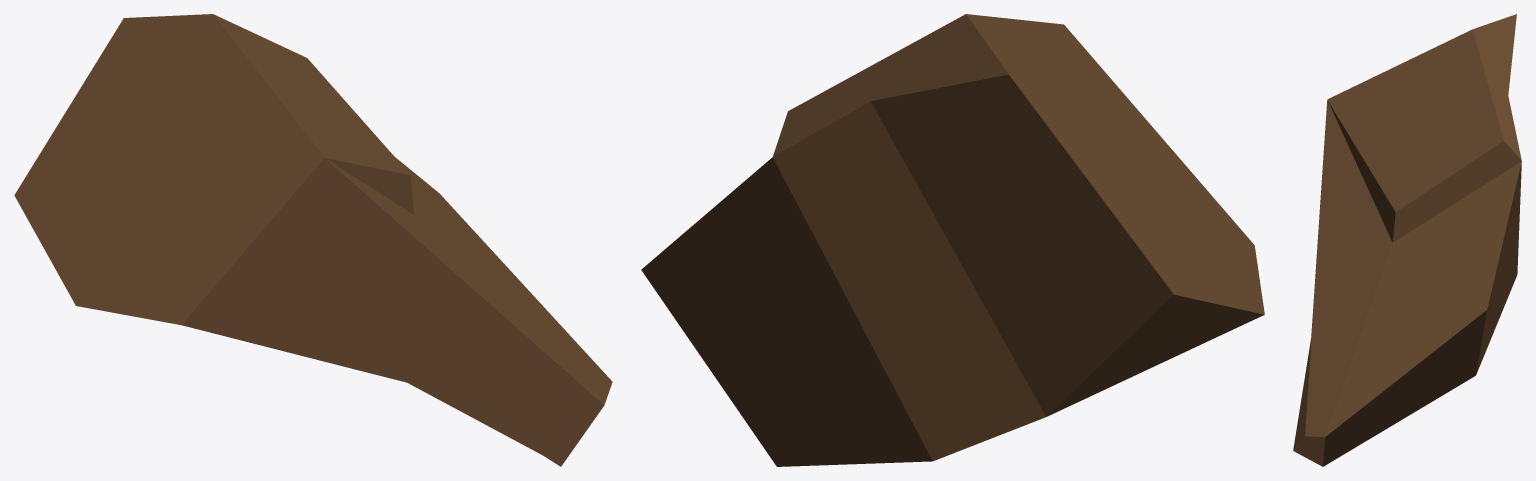
The model's file is boulder2.glb.
3 views of the same model, side by side, from view 1: azimuth 30°, elevation 25°; view 2: azimuth 150°, elevation 25°; view 3: azimuth 270°, elevation 25° (orthographic). The views are drawn at different scales.
Visible parts, largest first — view 1: stone-pointy_brown; view 2: stone-pointy_brown; view 3: stone-pointy_brown.
Part boxes in pixels (left/top/right/bottom): stone-pointy_brown: left=14, top=14, right=612, bottom=466; stone-pointy_brown: left=641, top=14, right=1264, bottom=466; stone-pointy_brown: left=1293, top=14, right=1521, bottom=466.
Size of the model in its own units: 1.95 by 1.68 by 1.02.
1 material, 1 textured.
